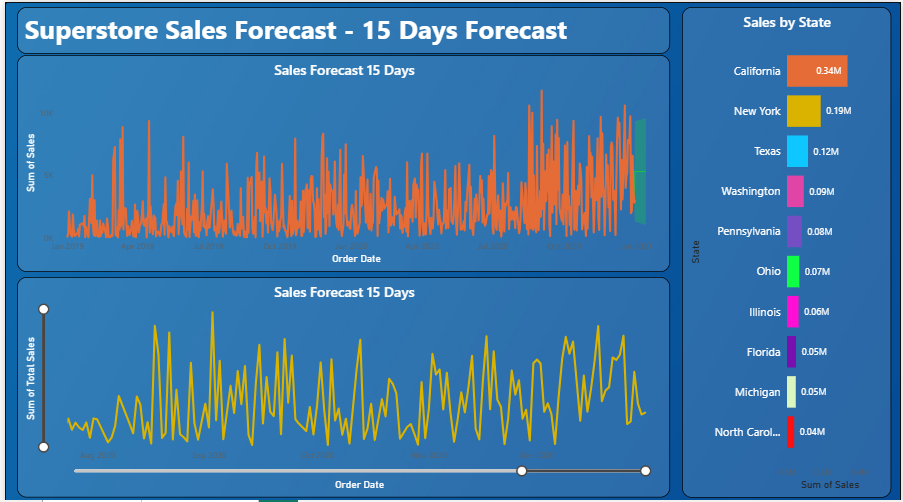

The page's visual inventory and layout, read from the dashboard file:
{"tool":"powerbi","page":{"name":"Sales Forecast","canvas":[1280,720],"ordinal":1},"visuals":[{"type":"lineChart","title":"Sales Forecast 15 Days","fields":{"Y":["Sum(SuperStore_Sales_Dataset.Sales)"],"Category":["SuperStore_Sales_Dataset.Order Date"]},"box":[16.7,75,933.3,310],"z":0},{"type":"lineChart","title":"Sales Forecast 15 Days","fields":{"Y":["Sum(SalesForecast.Total Sales)"],"Category":["SalesForecast.Order Date"]},"box":[16.7,393.3,933.3,315],"z":1000},{"type":"textbox","title":"Superstore Sales Forecast - 15 Days Forecast","box":[16.7,6.7,933.3,66.7],"z":2000},{"type":"clusteredBarChart","title":"Sales by State","fields":{"Category":["SuperStore_Sales_Dataset.State"],"Y":["Sum(SuperStore_Sales_Dataset.Sales)"]},"box":[967.1,7.1,298.6,701.4],"z":2001}]}

Visuals, with their boxes in screenshot pixels (x1, y1, x2, y2), scaled from the page's 1280x720 canvas onto the 903x502 screenshot:
"Sales Forecast 15 Days" lineChart: detection(12, 52, 670, 268)
"Sales Forecast 15 Days" lineChart: detection(12, 274, 670, 494)
"Superstore Sales Forecast - 15 Days Forecast" textbox: detection(12, 5, 670, 51)
"Sales by State" clusteredBarChart: detection(682, 5, 893, 494)
